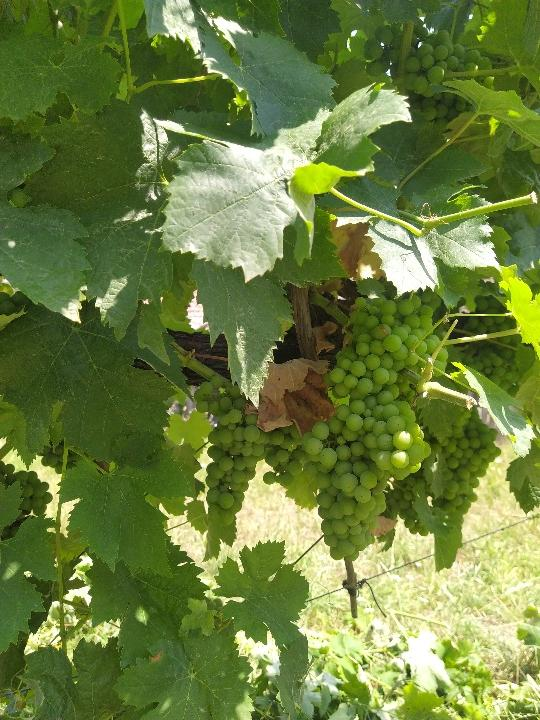grape: (299, 389, 434, 563), (192, 372, 291, 528), (322, 292, 443, 400)
